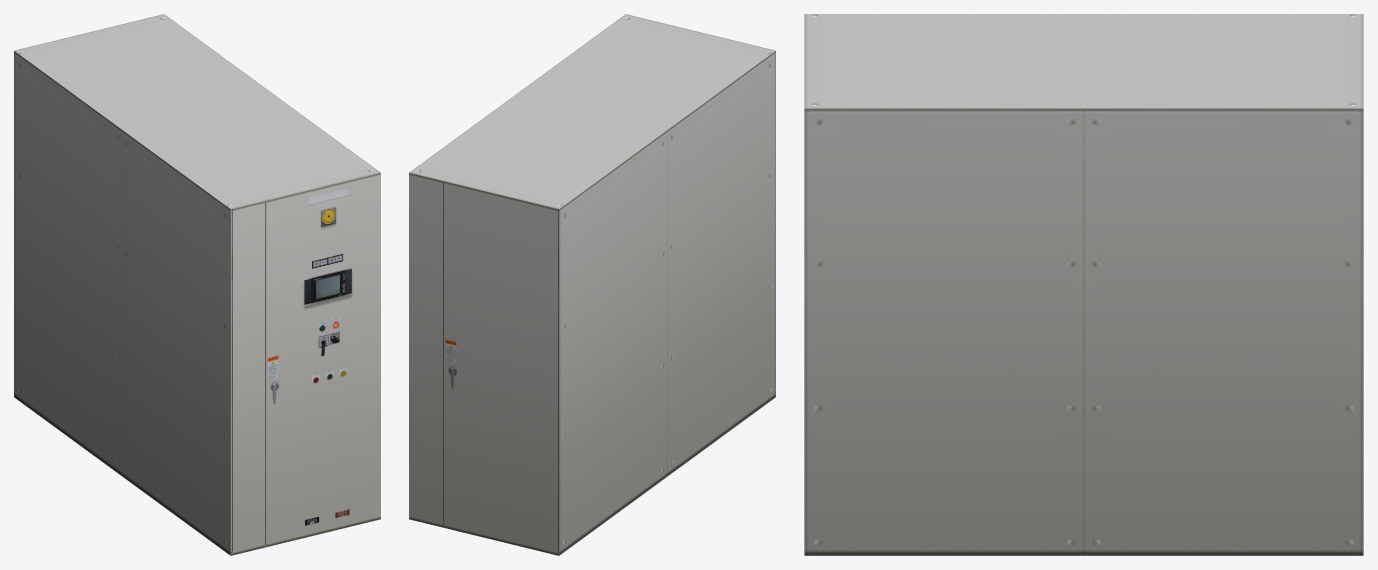
File: SHV_02.gltf
3 renders of one model, left to right at view 1: azimuth 30°, elevation 25°; view 2: azimuth 150°, elevation 25°; view 3: azimuth 270°, elevation 25°, orthographic. The views are drawn at different scales.
Parts seen in each view (by area): view 1: SHV-4-1; view 2: SHV-4-1; view 3: SHV-4-1.
Boxes of the visible parts, x1,y1,x2,y2 form: SHV-4-1: (14,14,380,555); SHV-4-1: (409,14,775,555); SHV-4-1: (804,14,1363,555).
Bounding box in the file's own units: 1.2 × 2.65 × 3.
Materials: 1 (1 with a texture image).
